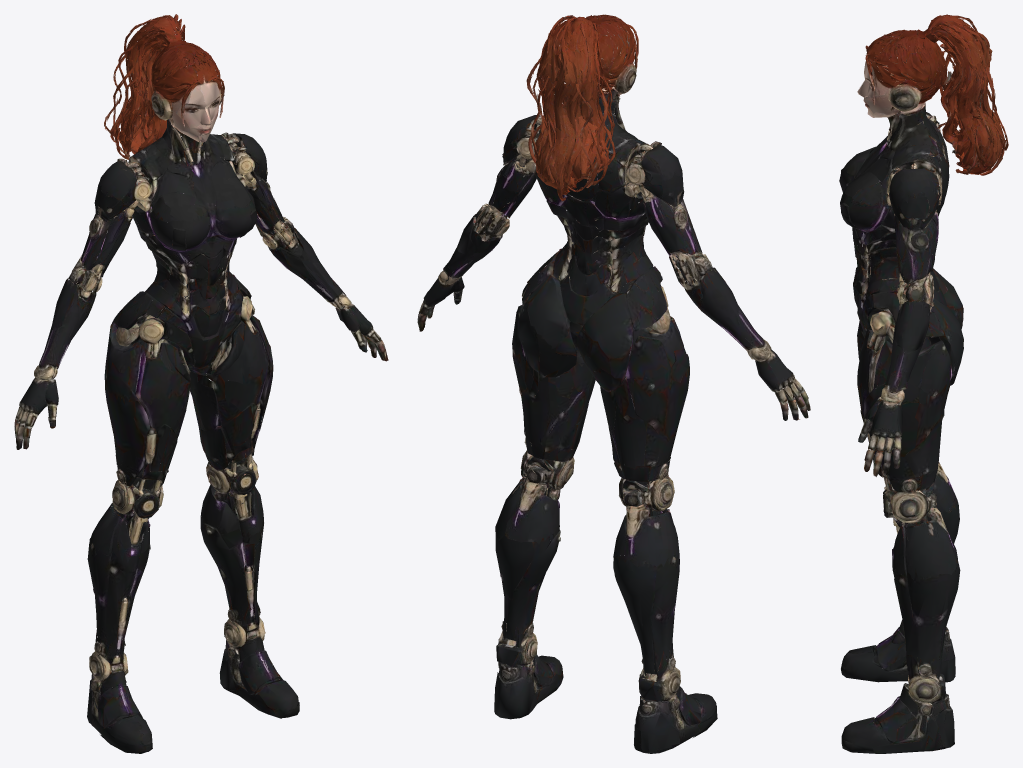
The model's file is nx-vela.glb.
3 views of the same model, side by side, from view 1: azimuth 30°, elevation 25°; view 2: azimuth 150°, elevation 25°; view 3: azimuth 270°, elevation 25° (orthographic). The views are drawn at different scales.
Visible parts, largest first — view 1: Mesh_0; view 2: Mesh_0; view 3: Mesh_0.
Boxes of the visible parts, left/top/right/bottom form: Mesh_0: left=14, top=14, right=388, bottom=753; Mesh_0: left=417, top=14, right=810, bottom=753; Mesh_0: left=839, top=14, right=1008, bottom=753.
Size of the model in its own units: 1.08 by 1.91 by 0.4209.
1 material, 1 textured.
